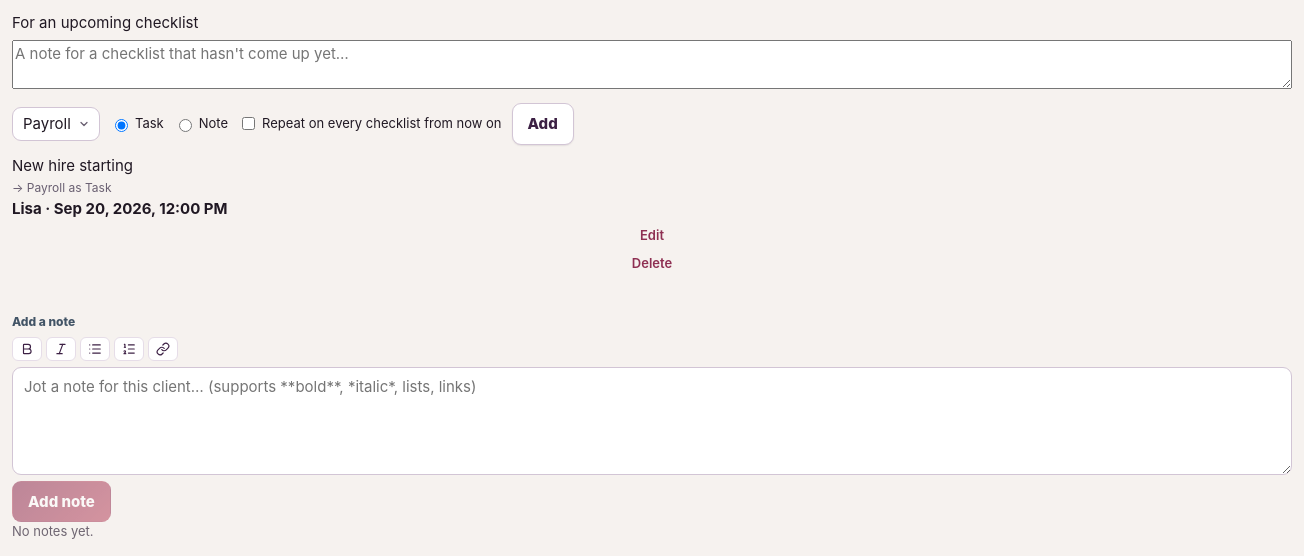
the "for an upcoming checklist" block › deletes a pending note
Click the button "Delete": click(652, 264) [12, 250, 1292, 277]
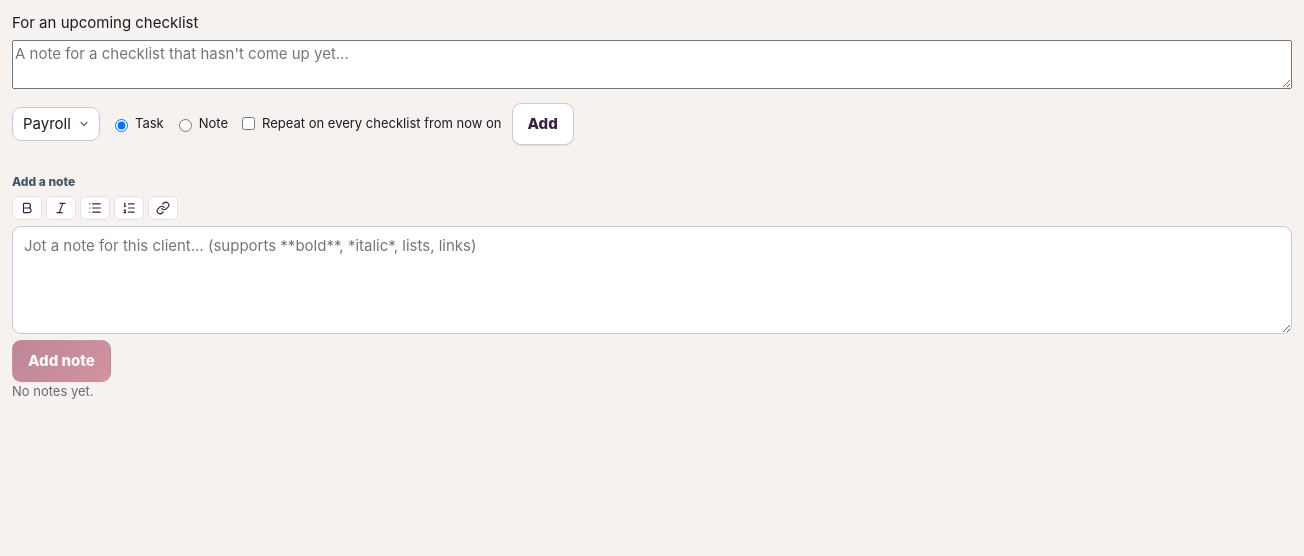
expect the text "New hire starting" is gone: met
